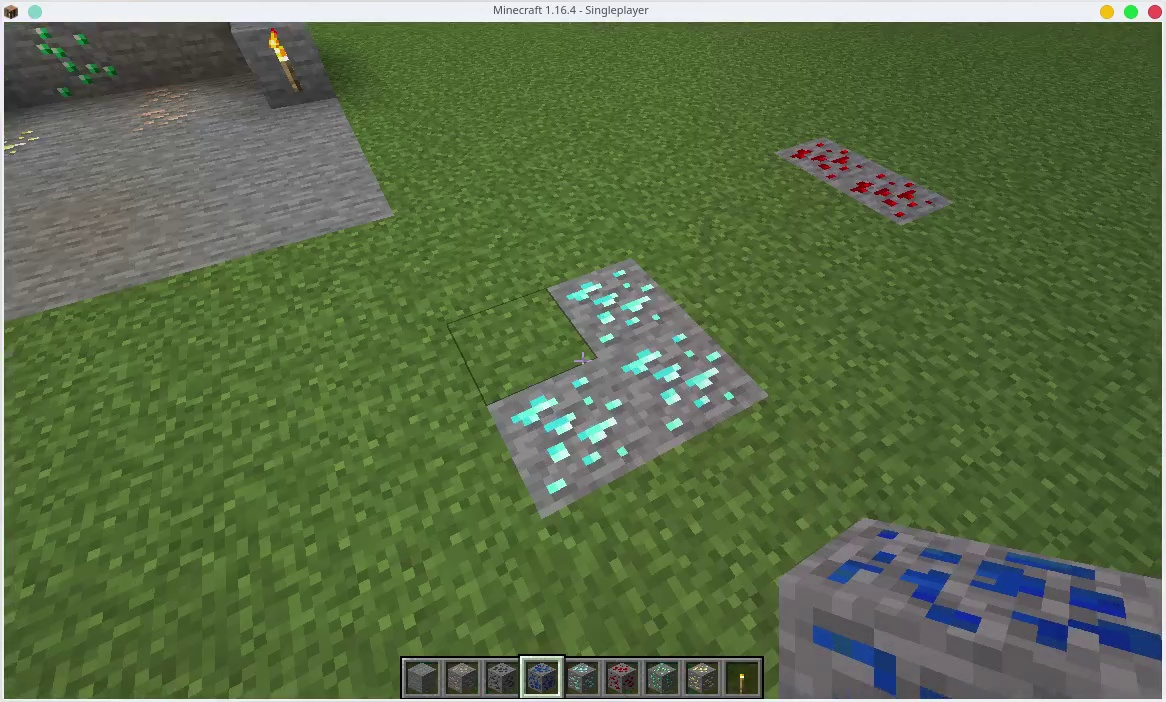gold: (1, 124, 44, 158), (684, 662, 717, 695)
